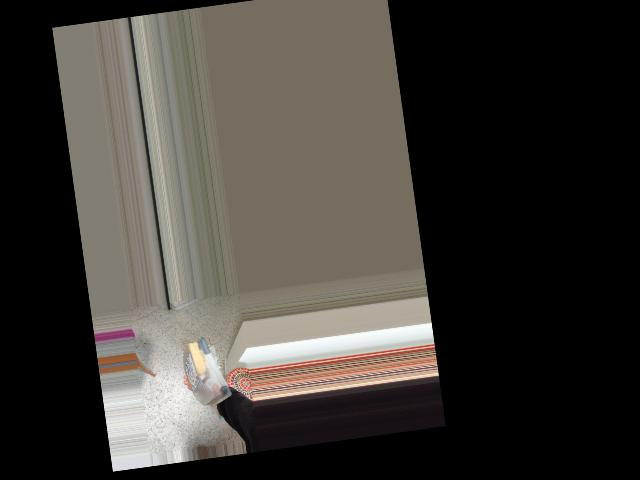cheese: (180, 331, 237, 407)
